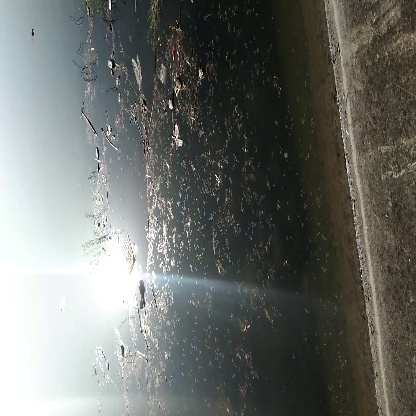branch: (78, 104, 103, 142)
